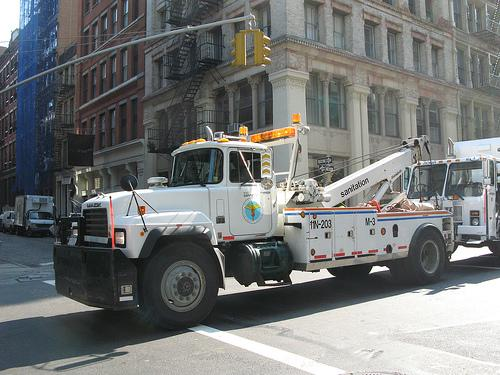truck: (53, 113, 500, 334)
